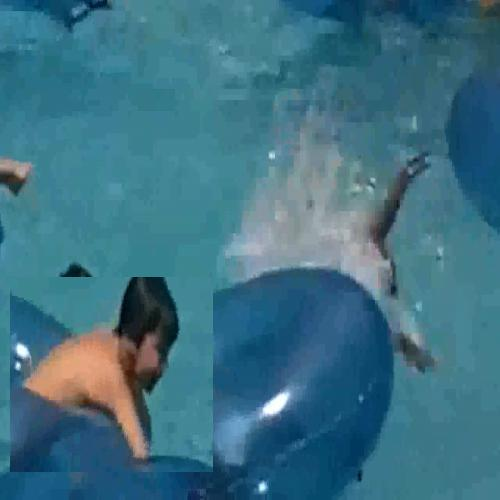drowning: (245, 109, 431, 298)
swimming: (10, 277, 214, 473)
